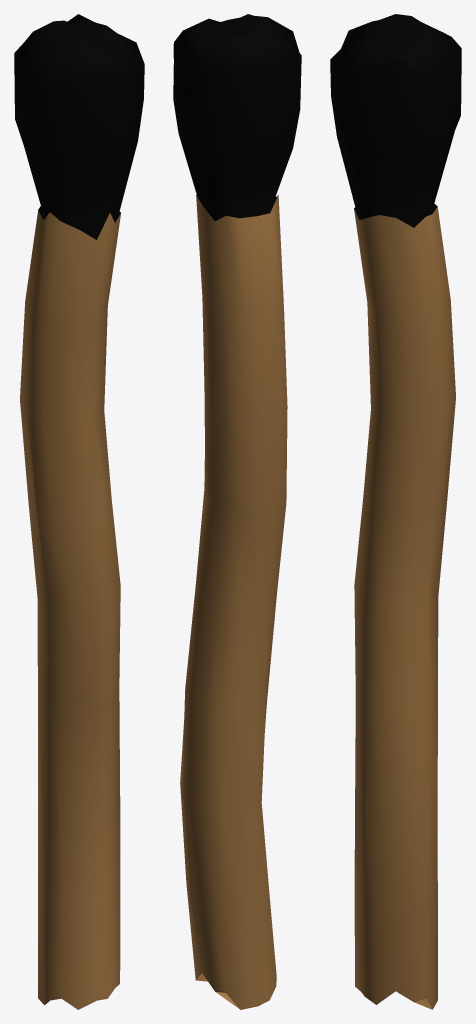
File: torch.gltf
3 views of the same model, side by side, from view 1: azimuth 90°, elevation 25°; view 2: azimuth 210°, elevation 25°; view 3: azimuth 270°, elevation 25° (orthographic).
Parts seen in each view (by area): view 1: Cube; view 2: Cube; view 3: Cube.
Part boxes in pixels (x1,y1,x2,y2): Cube: (14,14,144,1009); Cube: (173,14,301,1009); Cube: (330,14,461,1009).
Bounding box in the file's own units: 0.2538 × 2.08 × 0.2542.
